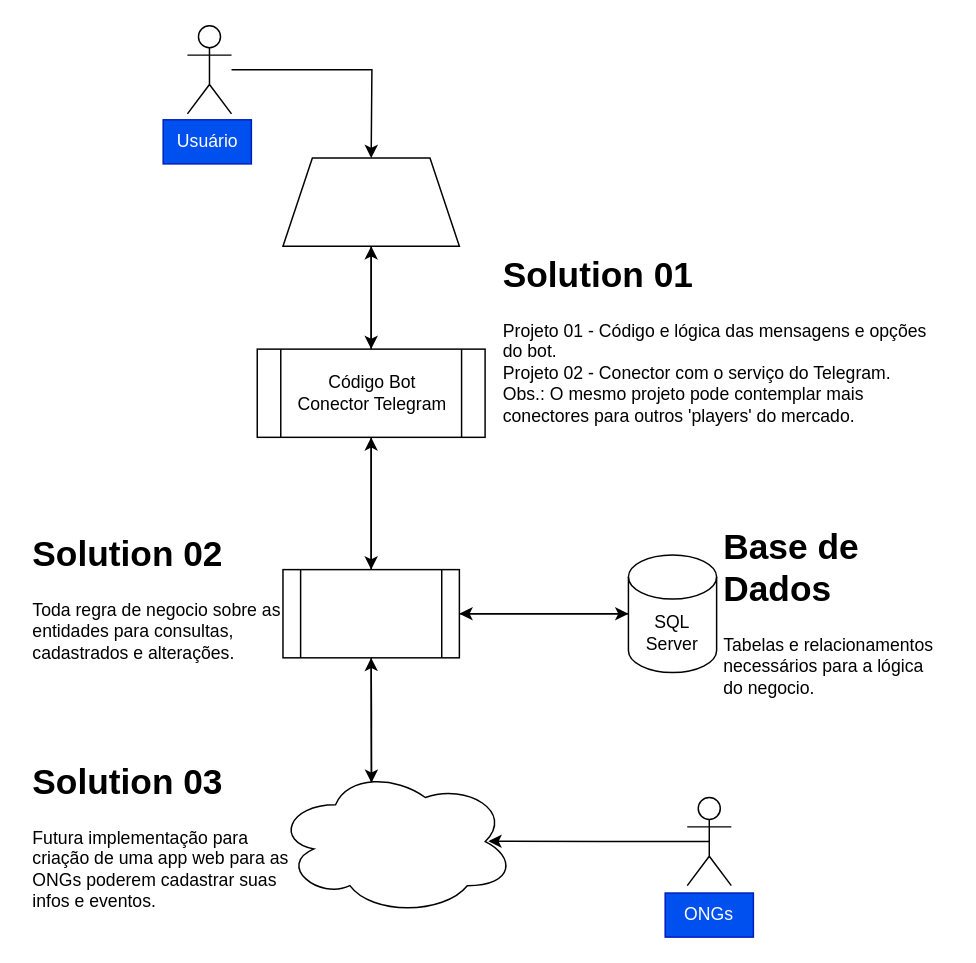
The diagram is 976 pixels wide and 963 high, and some of its shapes have lost their labels. The shapes that lost their labels are listed below. From the top down, each one's box as (x1, y1, x2, y2) in pixels, then its label:
(282, 157, 459, 246): Telegram
(282, 568, 459, 658): API .NET 7 DDD EF Core
(274, 767, 515, 915): Site ONGs & Eventos
